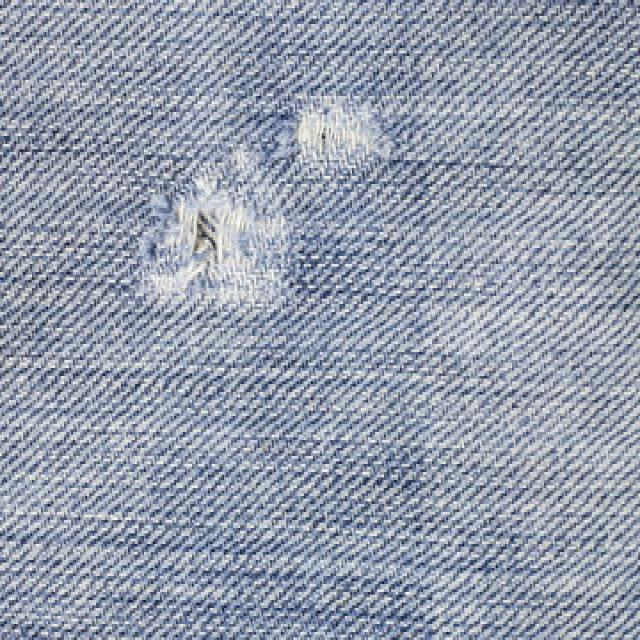Hole: (145, 174, 287, 303), (297, 96, 378, 164)
